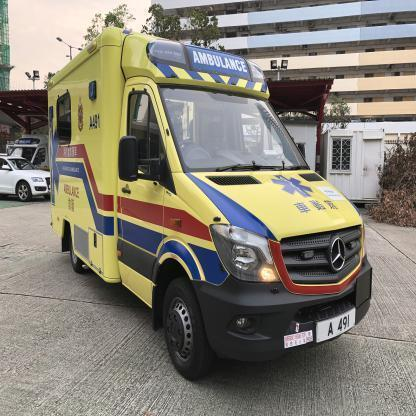Ambulance: (189, 44, 257, 80), (267, 166, 318, 204)
